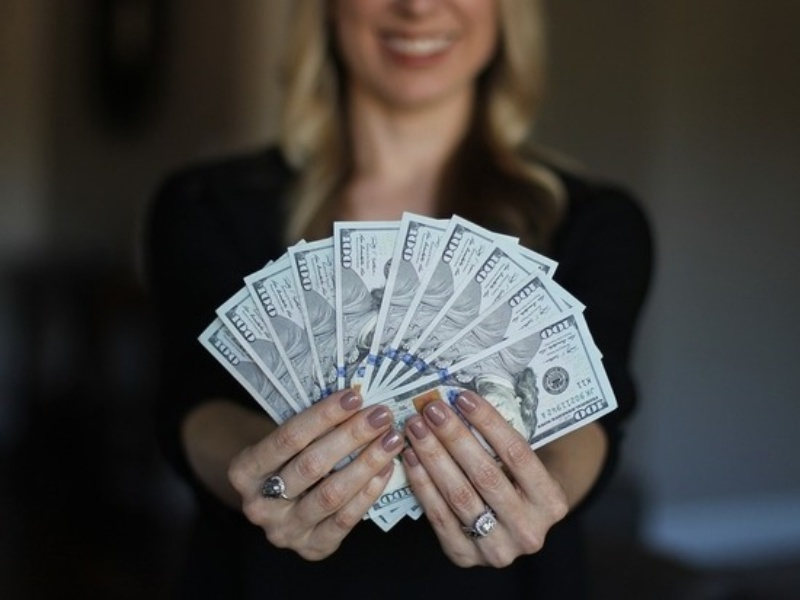cash: (198, 211, 619, 531)
person: (145, 1, 654, 600)
